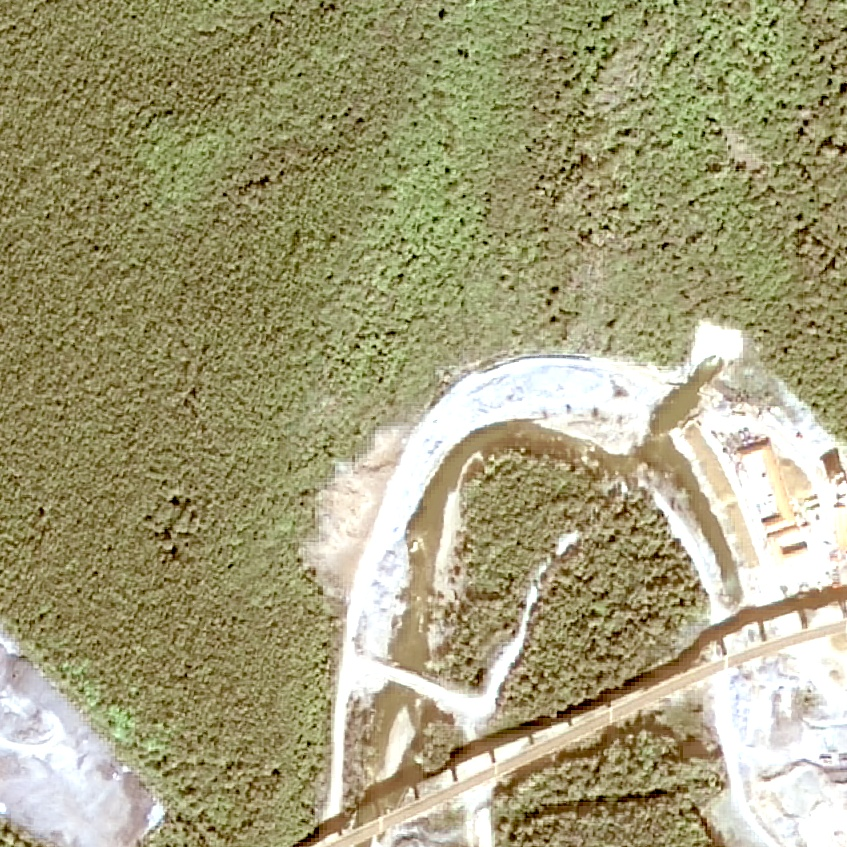slope: (293, 424, 405, 608), (679, 314, 746, 386)
